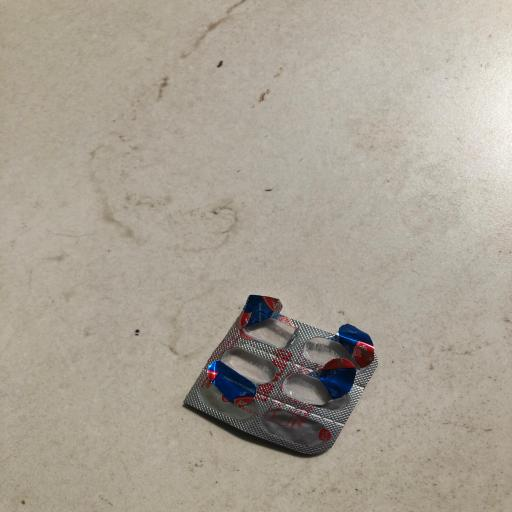waste: (173, 276, 382, 464)
